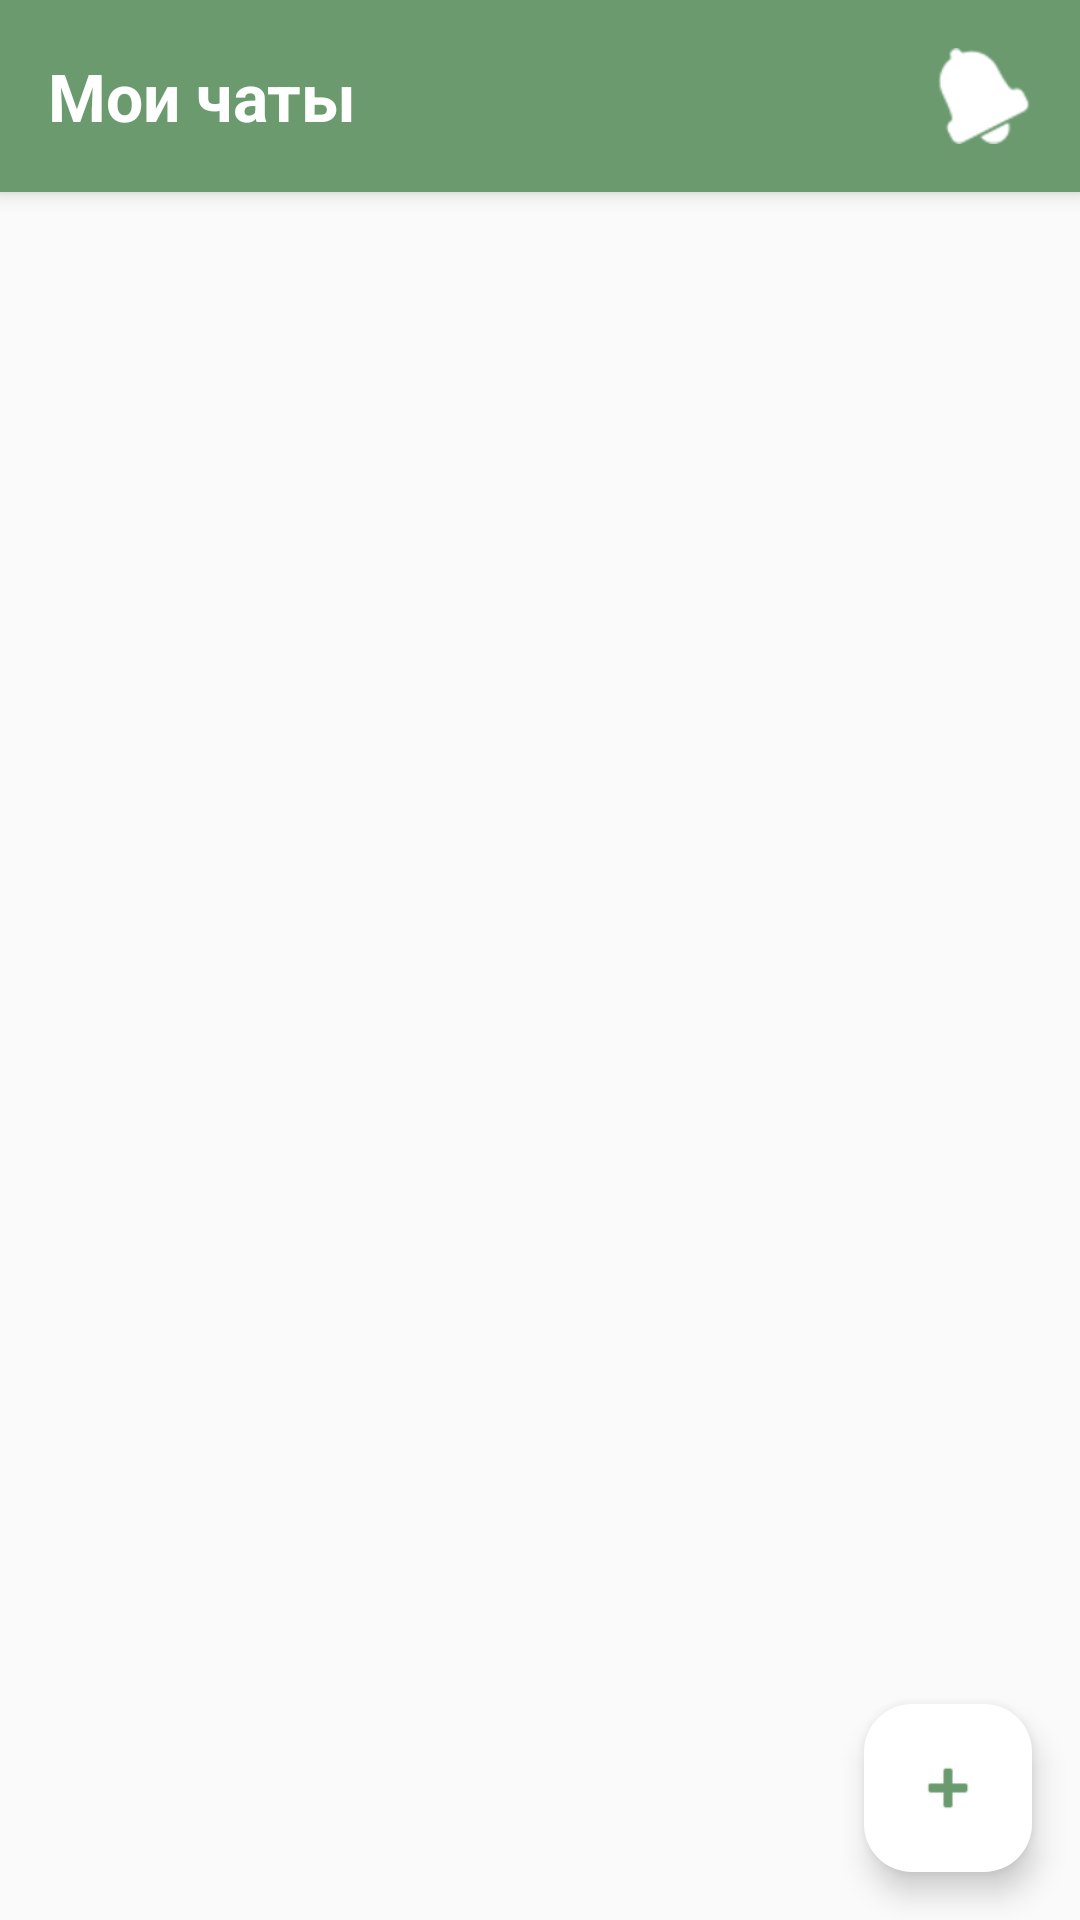

Where icons sit on this 1080w x 1920h app screen, as bbox(x1, y1, x2, y2):
add: bbox(864, 1704, 1032, 1872)
popup reminder: bbox(939, 48, 1029, 144)
